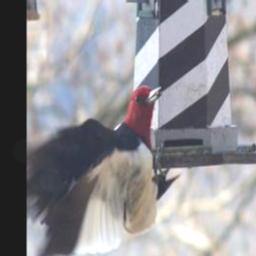Woodpecker: (26, 73, 176, 256)
